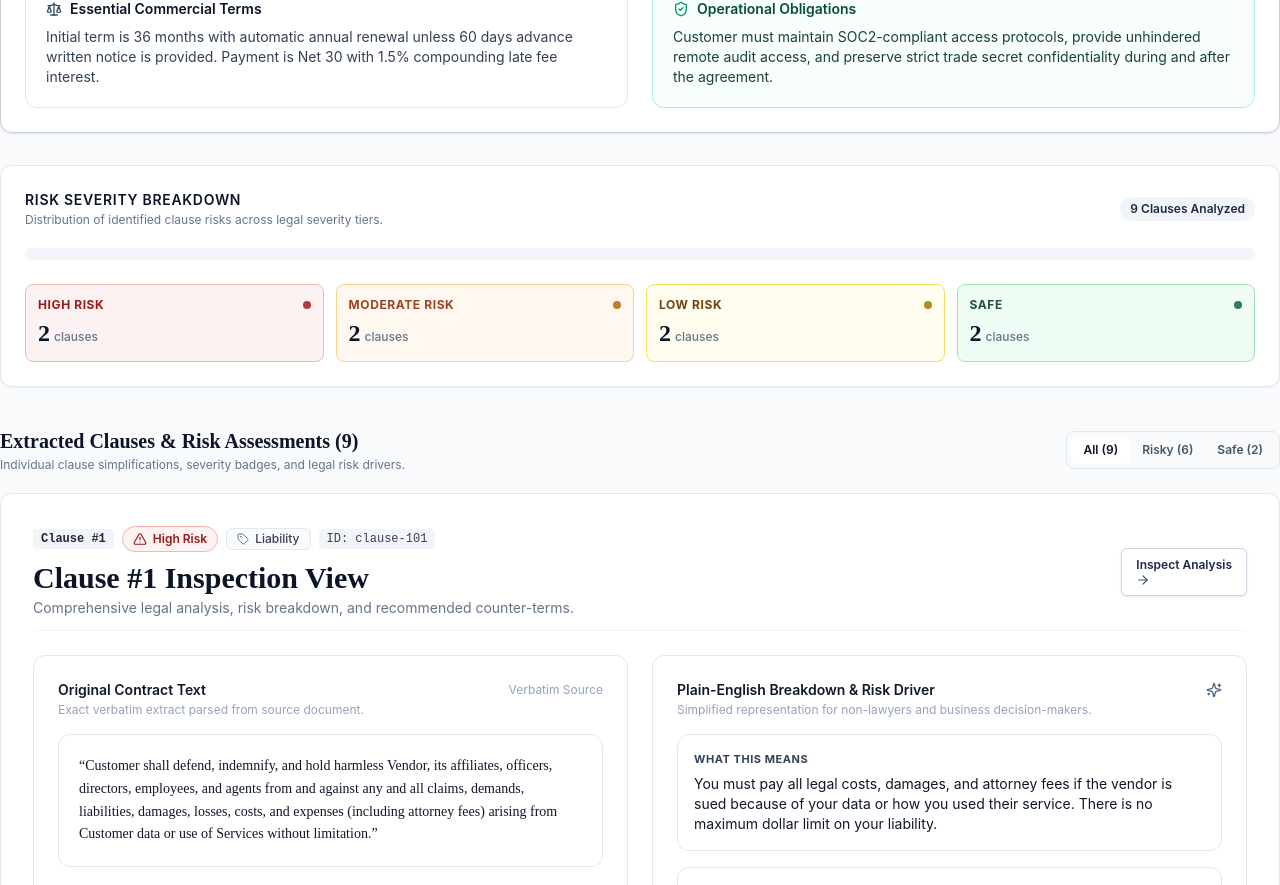
Test case: AnalysisResultsPage (PRD Ch. 16, 22.7 & Section 8.3) › filter toolbar correctly narrows to All, Risky, and Safe
The image size is (1280, 885).
(page scrolled)
Check: the button "All (9)" is shown, box [1072,436,1130,464]
Check: the button "Safe (2)" is shown, box [1205,436,1275,464]
// Click "Risky"
Click the button "Risky (6)": [1168, 450] box [1130,436,1205,464]
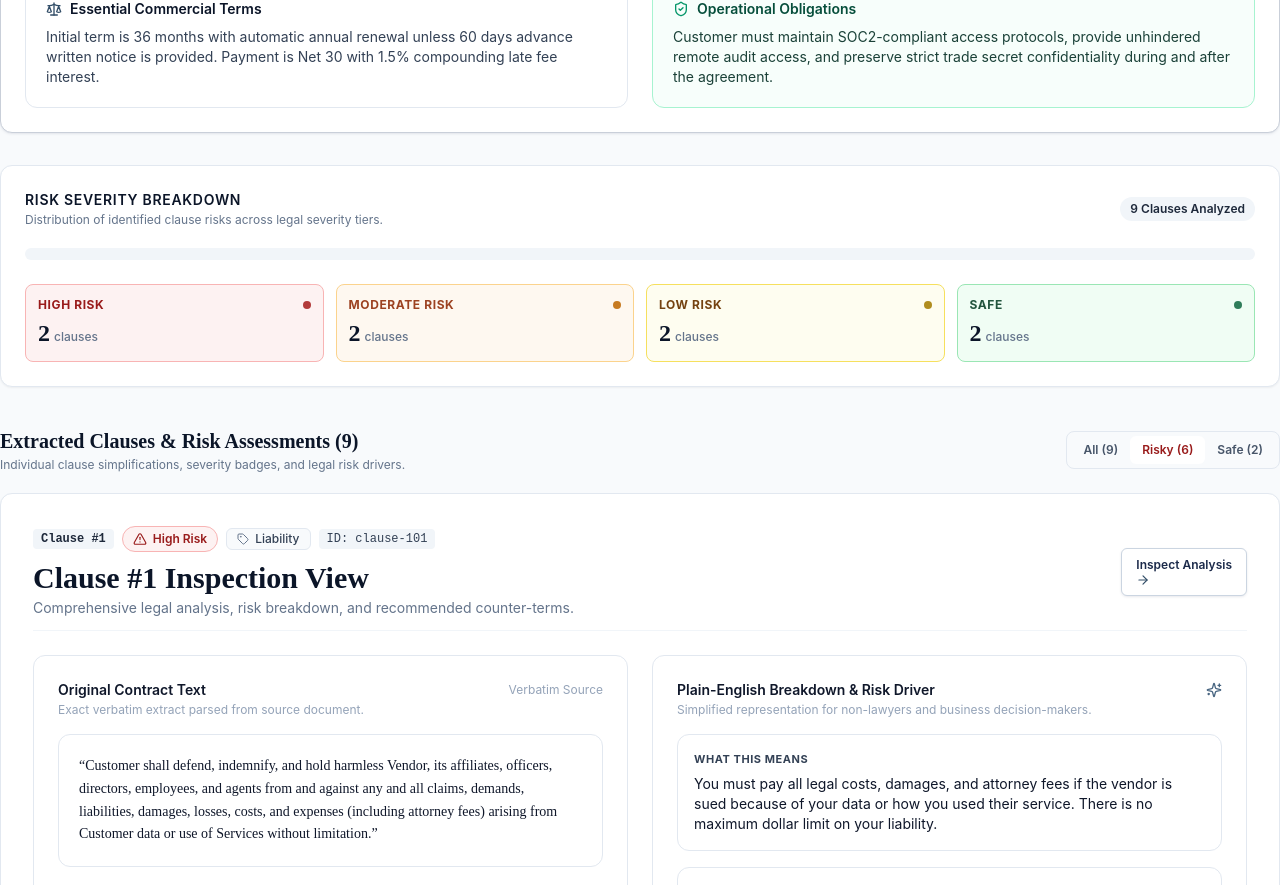
Check: the text "Clause #1" is shown, box [33,529,114,549]
Check: the text "Clause #7" is not shown
// Click "Safe"
Click the button "Safe (2)": [1240, 450] box [1205,436,1275,464]
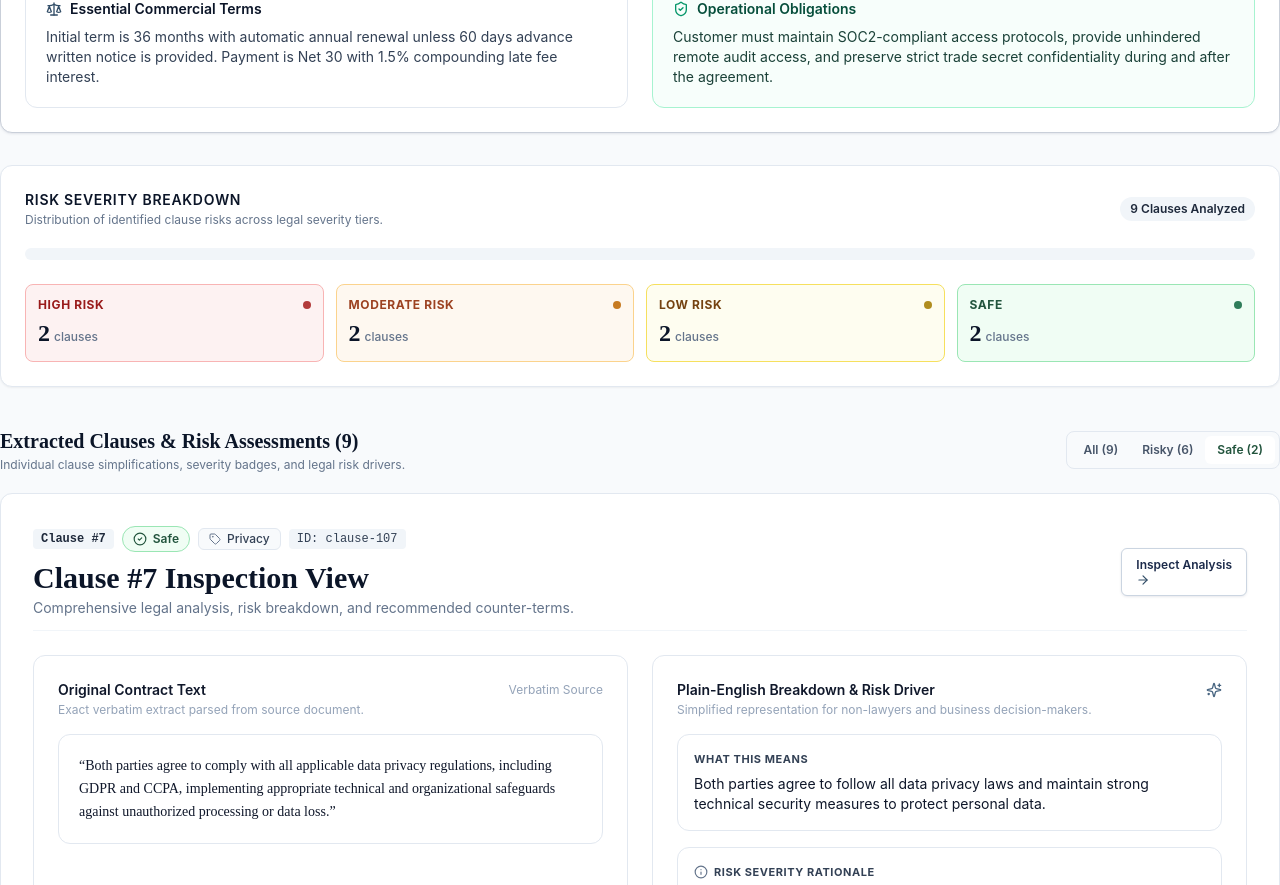
Check: the text "Clause #7" is shown, box [33,529,114,549]
Check: the text "Clause #1" is gone
// Click "All"
Click the button "All (9)": [1101, 450] box [1072,436,1130,464]
(page scrolled)
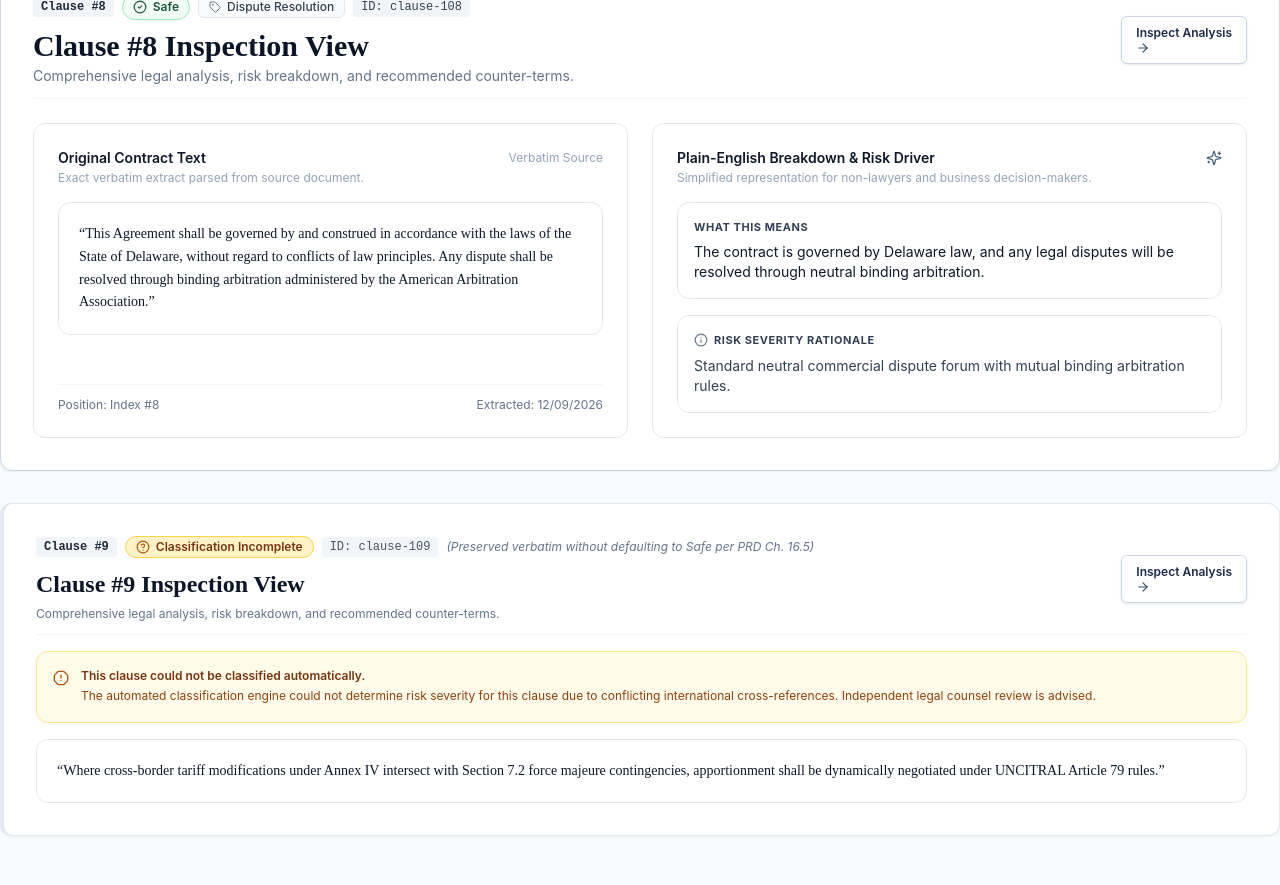
Check: the text "Clause #9" is shown, box [36,537,117,557]
